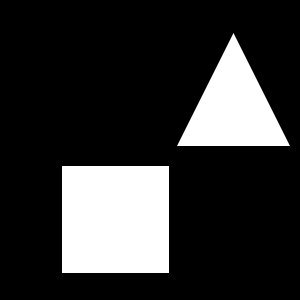circle: (62, 166, 169, 273)
triangle: (177, 33, 290, 146)
